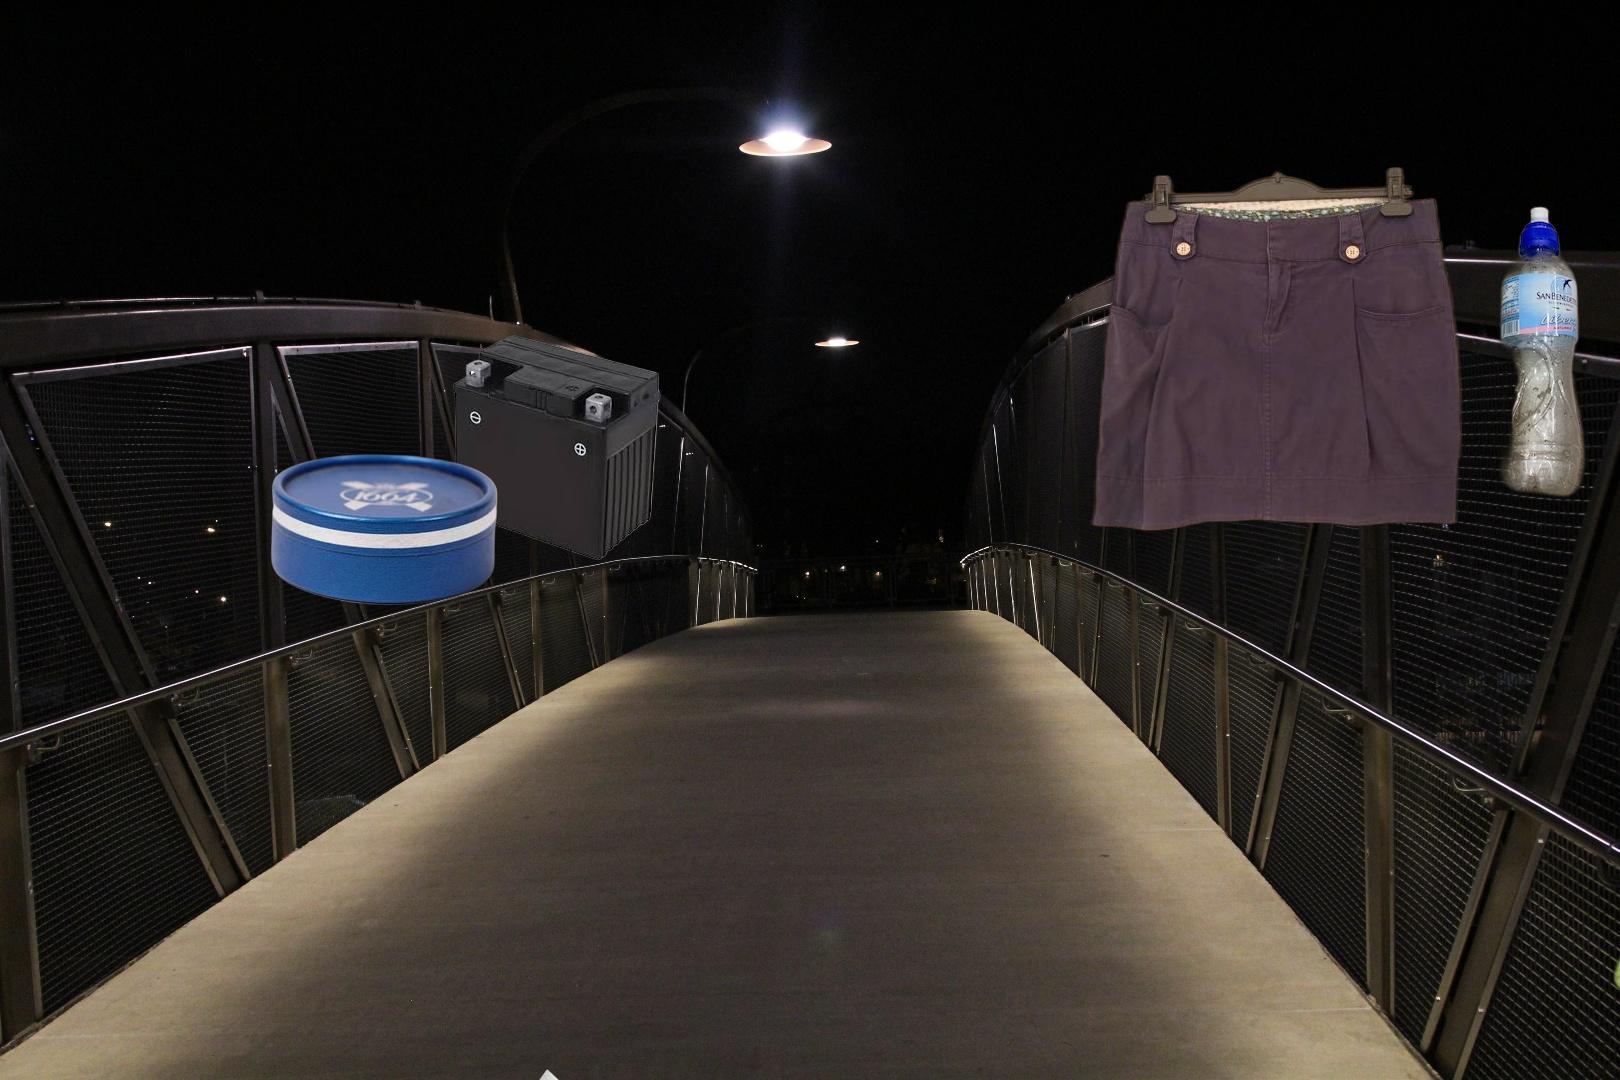battery: (450, 335, 663, 560)
clothes: (1084, 164, 1471, 535)
plastic-bag: (444, 1068, 600, 1080)
plastic-bottles: (1356, 202, 1620, 523), (1609, 799, 1620, 1016)
trashbox-cardboard: (268, 453, 501, 607)
